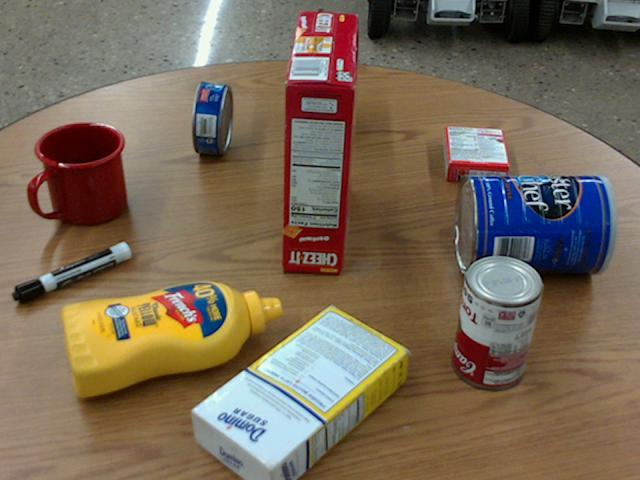cracker_box: (283, 10, 361, 271)
gelatin_box: (442, 124, 509, 182)
large_marker: (12, 241, 130, 302)
master_chef_can: (455, 172, 617, 272)
mug: (31, 122, 126, 226)
mustard_bottle: (60, 279, 281, 397)
potted_meat_can: (307, 50, 357, 146)
sugar_box: (188, 305, 407, 479)
tomato_soup_can: (453, 252, 543, 387)
tuna_fish_can: (191, 80, 232, 154)
